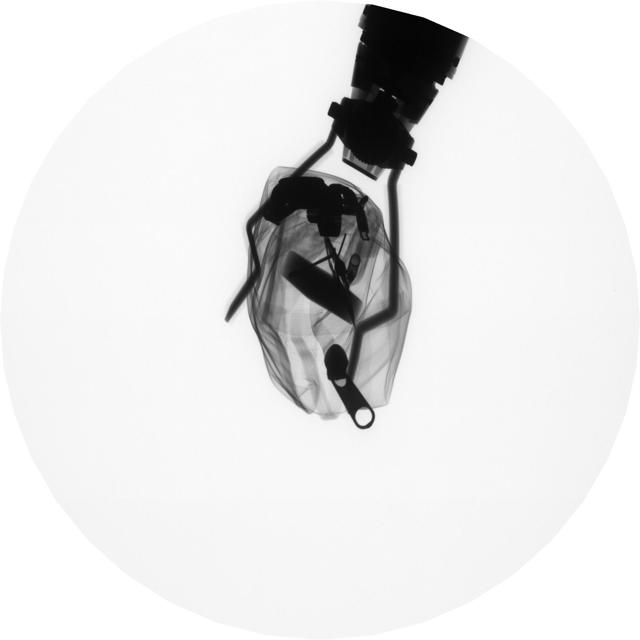razor: (325, 238, 357, 327)
